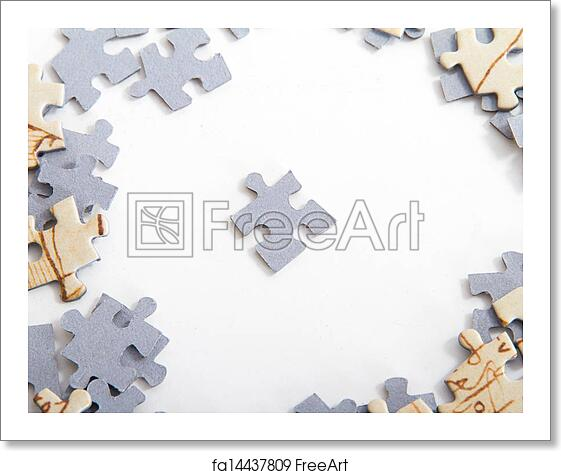puzzle piece: (226, 159, 360, 270), (52, 302, 165, 396), (135, 32, 251, 118), (29, 199, 114, 316), (435, 24, 546, 106), (51, 33, 136, 118)
